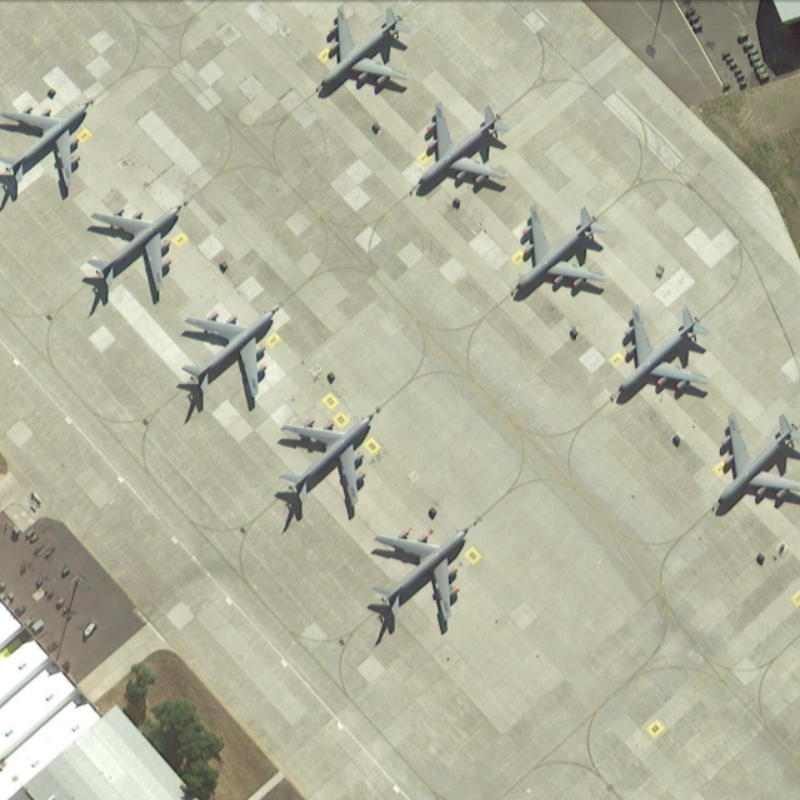A14: (167, 300, 285, 411), (261, 411, 380, 516), (365, 525, 478, 633), (84, 197, 193, 305), (2, 85, 97, 200), (407, 96, 514, 198), (508, 198, 610, 303), (605, 300, 712, 400), (706, 408, 800, 513), (311, 3, 413, 97)
